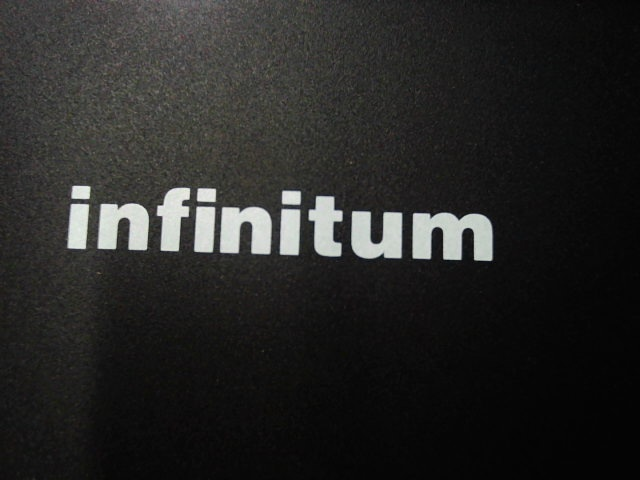BK_infinitum: (57, 180, 507, 272)
